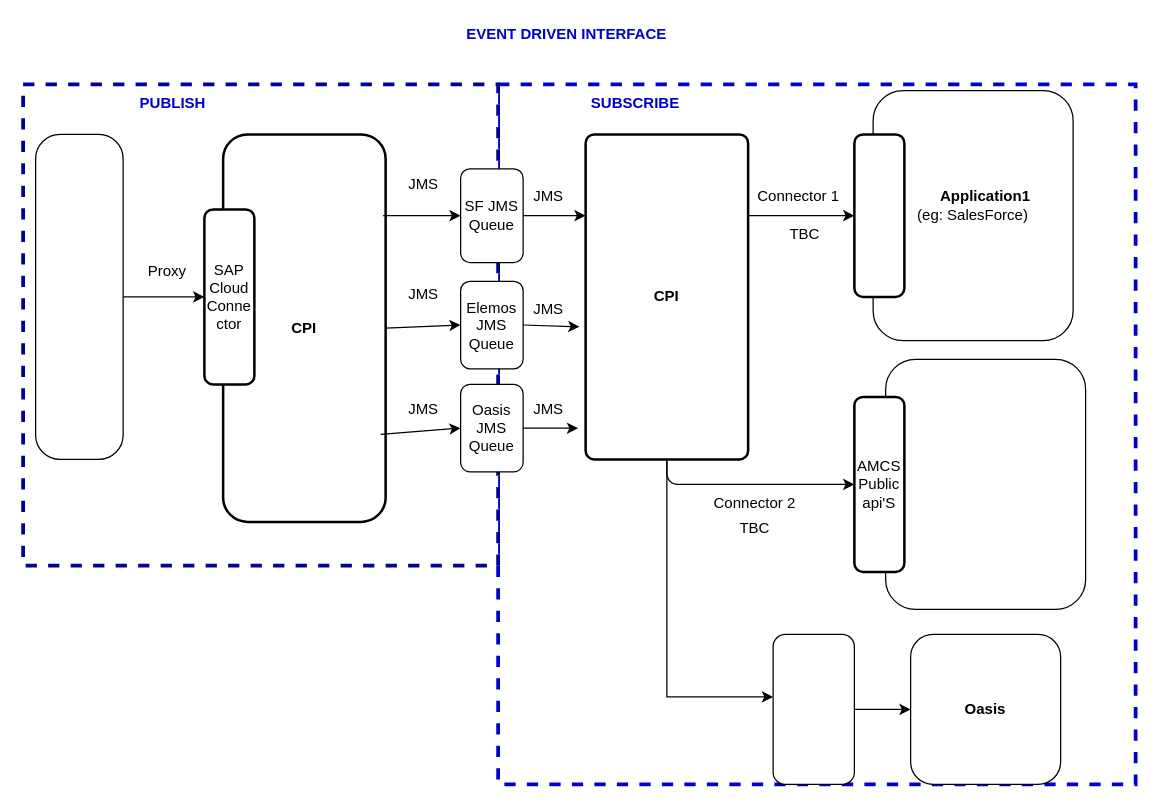
Image size: 1159x808. Some labels were removed from this diagram. Here are the shapes that lost their labels. From the top down, the centre of each, then its label:
At (x=878, y=215): "Event Bus (or) API tbd".
At (x=78, y=296): "SAP".
At (x=985, y=483): "Application 2 (eg: ELEMOS)".
At (x=813, y=708): "SAP PI/PO".
